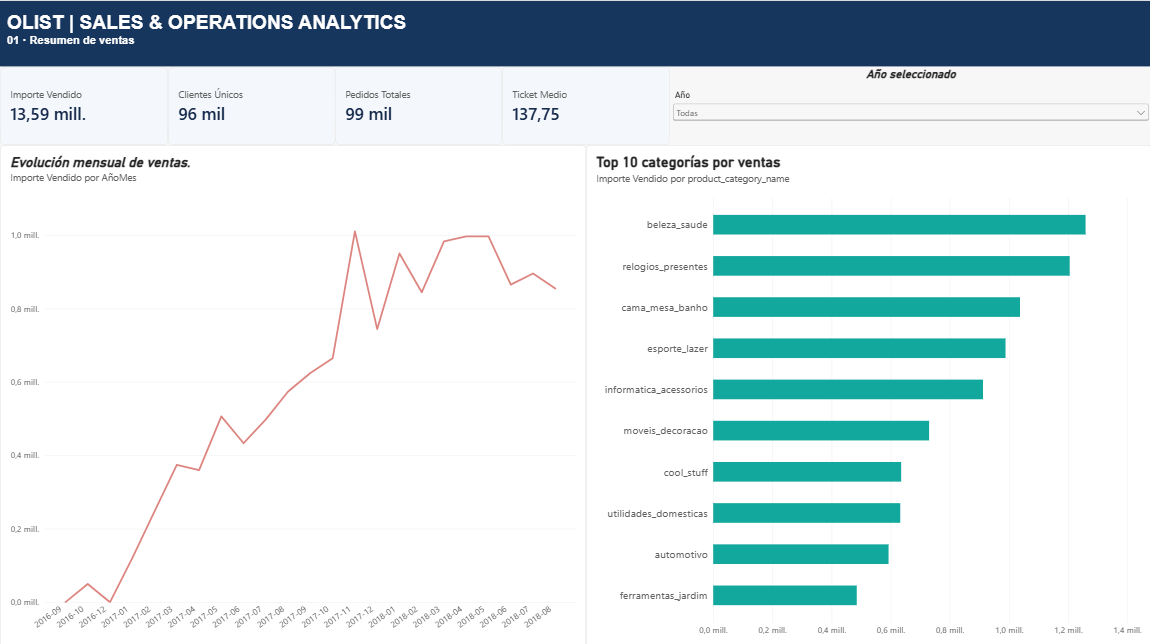

This screenshot's page, from the dashboard's own definition file:
{"tool":"powerbi","page":{"name":"Ventas","canvas":[1920,1080],"ordinal":0},"visuals":[{"type":"shape","box":[0,0,1920.3,109.1],"z":0},{"type":"cardVisual","fields":{"Data":["stgArticulos.Importe Vendido"]},"box":[0,110,280,130],"z":1000},{"type":"cardVisual","fields":{"Data":["stgArticulos.Pedidos Totales"]},"box":[559.1,110,278.2,130],"z":2000},{"type":"cardVisual","fields":{"Data":["stgArticulos.Ticket Medio"]},"box":[837.3,110,280,130],"z":3000},{"type":"cardVisual","fields":{"Data":["stgArticulos.Clientes Únicos"]},"box":[280,110,279.1,130],"z":4000},{"type":"clusteredBarChart","title":"Top 10 categorías por ventas","fields":{"Category":["stgProductos.product_category_name"],"Y":["stgArticulos.Importe Vendido"]},"box":[976.7,240,943.3,840],"z":5000},{"type":"lineChart","title":"Evolución mensual de ventas.","fields":{"Category":["Calendario.AñoMes"],"Y":["stgArticulos.Importe Vendido"]},"box":[0,240,976.7,840],"z":6000},{"type":"slicer","title":"Año seleccionado","fields":{"Values":["Calendario.Año"]},"box":[1116.7,110,803.3,145],"z":7000},{"type":"textbox","box":[11.7,18.3,739.3,91.6],"z":8000}]}

Visuals, with their boxes in screenshot pixels (x1, y1, x2, y2), scaled from the page's 1920x1080 canvas onto the 1150x644 screenshot:
shape: rect(0, 0, 1149, 65)
cardVisual - stgArticulos.Importe Vendido: rect(0, 66, 168, 143)
cardVisual - stgArticulos.Pedidos Totales: rect(335, 66, 502, 143)
cardVisual - stgArticulos.Ticket Medio: rect(502, 66, 669, 143)
cardVisual - stgArticulos.Clientes Únicos: rect(168, 66, 335, 143)
"Top 10 categorías por ventas" clusteredBarChart: rect(585, 143, 1149, 643)
"Evolución mensual de ventas." lineChart: rect(0, 143, 585, 643)
"Año seleccionado" slicer: rect(669, 66, 1149, 152)
textbox: rect(7, 11, 450, 66)
